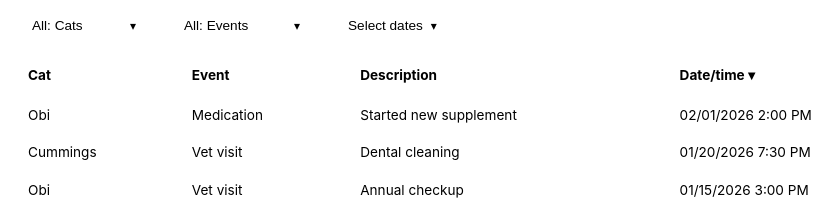
Test: EventLogDashboard sorting › clicking the same column header again toggles to descending
Click the column heading with test id "sort-cat" at (39, 75), box [16,56,180,97]
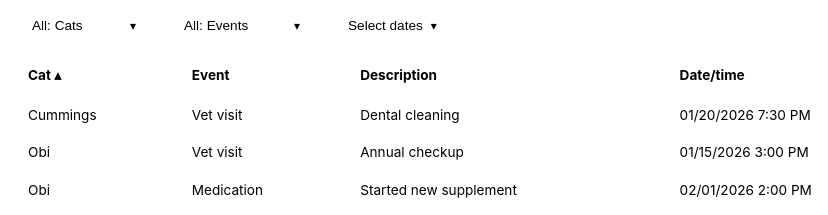
Click the column heading with test id "sort-cat" at (44, 75), box [16,56,180,97]
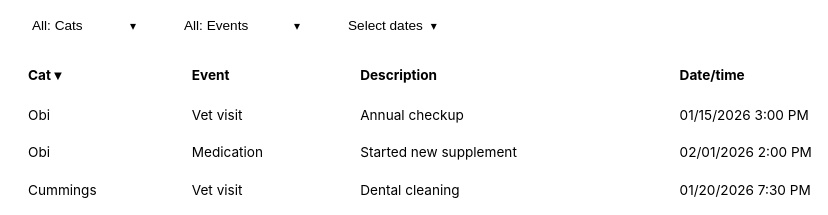
Expected: the cell "Obi" in the row of "Annual checkup" is shown, [28,107,50,123]
